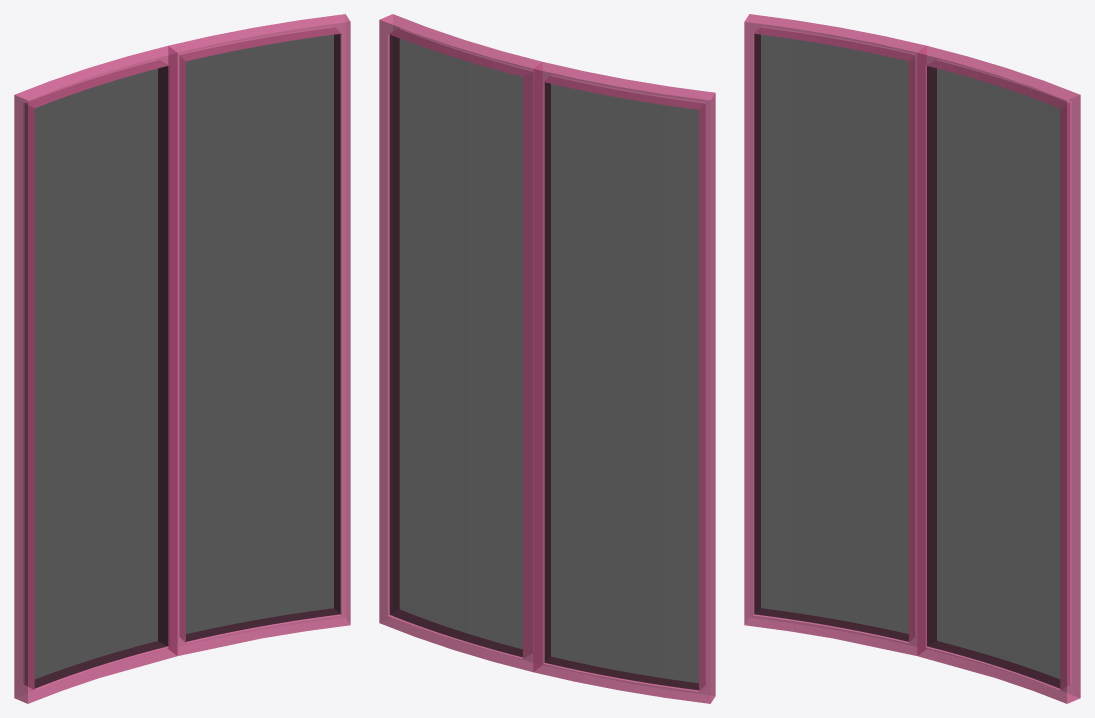
Rendered from OsakaDoorInner.fbx.
3 renders of one model, left to right at view 1: azimuth 30°, elevation 25°; view 2: azimuth 150°, elevation 25°; view 3: azimuth 330°, elevation 25°, orthographic.
Visible parts, largest first — view 1: Glass_L, Glass_R, Door_R, Door_L; view 2: Glass_R, Glass_L, Door_L, Door_R; view 3: Glass_R, Glass_L, Door_L, Door_R.
Boxes of the visible parts, x1,y1,x2,y2 form: Glass_L: (186, 34, 340, 641); Glass_R: (34, 66, 167, 688); Door_R: (14, 46, 177, 703); Door_L: (168, 14, 350, 655); Glass_R: (544, 82, 698, 690); Glass_L: (389, 34, 522, 657); Door_L: (379, 14, 542, 671); Door_R: (533, 62, 715, 703); Glass_R: (754, 34, 908, 641); Glass_L: (927, 66, 1060, 688); Door_L: (917, 46, 1080, 703); Door_R: (744, 14, 926, 655).
Bounding box in the file's own units: 161 × 280 × 17.7.
